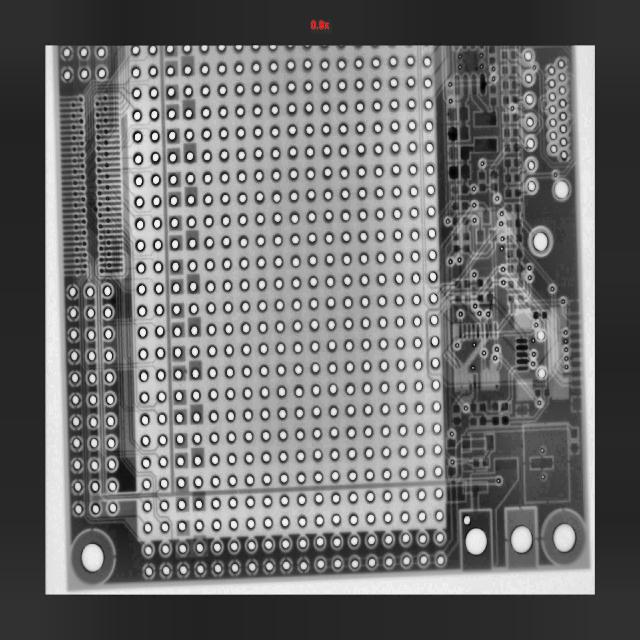Both: (78, 541, 107, 574), (464, 527, 489, 557), (552, 523, 575, 552), (549, 178, 573, 202), (511, 526, 532, 553), (532, 231, 549, 251), (137, 370, 151, 384), (223, 323, 236, 336), (89, 503, 102, 516), (106, 458, 118, 472), (304, 168, 317, 180), (428, 314, 441, 326), (134, 219, 147, 231), (204, 259, 216, 272), (292, 363, 304, 376), (210, 497, 222, 510), (105, 437, 117, 450), (95, 47, 107, 59), (355, 143, 367, 155), (326, 319, 338, 331), (344, 384, 356, 396), (294, 429, 306, 441), (169, 239, 181, 251), (242, 409, 254, 421), (263, 539, 275, 551), (68, 329, 80, 341), (85, 329, 97, 341), (184, 129, 195, 142), (58, 96, 85, 101), (354, 79, 365, 91), (149, 109, 160, 121), (390, 164, 402, 175), (396, 359, 407, 371), (415, 446, 426, 458), (195, 563, 206, 575), (535, 330, 547, 341), (224, 344, 234, 357), (58, 102, 84, 107), (96, 68, 107, 79), (251, 62, 262, 73), (148, 88, 159, 99), (371, 79, 382, 90), (274, 300, 285, 311), (171, 304, 182, 315), (160, 565, 171, 576), (339, 145, 349, 157), (349, 514, 359, 526), (136, 240, 146, 252), (156, 369, 166, 381), (60, 113, 84, 118), (60, 119, 84, 124), (62, 208, 86, 213), (96, 106, 119, 111), (252, 83, 262, 94), (202, 129, 212, 140), (359, 274, 369, 285), (311, 385, 321, 396), (316, 559, 326, 570), (351, 559, 361, 570), (189, 303, 199, 314), (241, 323, 251, 334), (190, 390, 201, 400), (103, 329, 113, 340), (523, 51, 533, 62), (152, 174, 161, 186), (340, 167, 349, 179), (426, 184, 435, 196), (381, 403, 390, 415), (417, 489, 426, 501), (155, 304, 164, 316), (139, 348, 148, 360), (226, 388, 235, 400), (337, 80, 347, 90), (186, 195, 196, 205), (289, 192, 299, 202), (243, 432, 253, 442), (192, 433, 202, 443), (72, 460, 82, 470), (59, 108, 84, 112), (60, 147, 85, 151), (96, 140, 121, 144), (305, 146, 314, 157), (79, 46, 88, 57), (287, 82, 296, 93), (321, 80, 330, 91), (339, 123, 348, 134), (374, 144, 383, 155), (186, 173, 195, 184), (272, 170, 281, 181), (374, 166, 383, 177), (426, 164, 435, 175), (324, 210, 333, 221), (342, 254, 351, 265), (344, 319, 353, 330), (363, 383, 372, 394), (399, 447, 408, 458), (417, 468, 426, 479), (366, 492, 375, 503), (298, 517, 307, 528), (418, 511, 427, 522), (291, 257, 300, 268), (171, 261, 180, 272), (206, 282, 215, 293), (190, 346, 199, 357), (156, 348, 165, 359), (209, 389, 218, 400), (140, 392, 149, 403), (142, 479, 151, 490), (194, 499, 203, 510), (143, 522, 152, 533), (212, 520, 221, 531), (195, 543, 204, 554), (71, 394, 80, 405), (91, 481, 100, 492), (205, 237, 213, 249), (60, 125, 84, 129), (60, 154, 84, 158), (61, 175, 85, 179), (96, 135, 120, 139), (97, 157, 121, 161), (99, 246, 123, 250), (99, 252, 123, 256), (61, 159, 84, 163), (61, 181, 84, 185), (96, 112, 119, 116), (97, 163, 120, 167), (100, 257, 123, 261), (527, 137, 534, 150), (62, 70, 71, 80), (286, 61, 295, 71), (235, 63, 244, 73), (270, 105, 279, 115), (150, 132, 159, 142), (408, 121, 417, 131), (425, 143, 434, 153), (391, 143, 400, 153), (254, 149, 263, 159), (341, 189, 350, 199), (341, 212, 350, 222), (393, 231, 402, 241), (376, 231, 385, 241), (411, 252, 420, 262), (394, 252, 403, 262), (326, 277, 335, 287), (328, 341, 337, 351), (362, 340, 371, 350), (379, 339, 388, 349), (433, 445, 442, 455), (382, 470, 391, 480), (400, 469, 409, 479), (400, 491, 409, 501), (315, 494, 324, 504), (332, 515, 341, 525), (384, 513, 393, 523), (435, 533, 444, 543), (401, 533, 410, 543), (384, 535, 393, 545), (333, 559, 342, 569), (436, 556, 445, 566), (169, 196, 178, 206), (172, 283, 181, 293), (154, 263, 163, 273), (224, 302, 233, 312), (206, 303, 215, 313), (276, 343, 285, 353), (176, 434, 185, 444), (142, 459, 151, 469), (159, 457, 168, 467), (176, 457, 185, 467), (279, 452, 288, 462), (211, 477, 220, 487), (161, 523, 170, 533), (229, 520, 238, 530), (264, 518, 273, 528), (281, 540, 290, 550), (230, 562, 239, 572), (144, 566, 153, 576), (70, 351, 79, 361), (89, 438, 98, 448), (108, 481, 117, 491), (73, 482, 82, 492), (74, 504, 83, 514), (559, 99, 568, 109), (185, 108, 193, 119), (221, 172, 229, 183), (410, 186, 418, 197), (428, 228, 436, 239), (411, 230, 419, 241), (311, 363, 319, 374), (364, 404, 372, 415), (347, 405, 355, 416), (313, 406, 321, 417), (297, 451, 305, 462), (401, 512, 409, 523), (420, 555, 428, 566), (240, 237, 248, 248), (240, 258, 248, 269), (155, 283, 163, 294), (190, 325, 198, 336), (277, 365, 285, 376), (141, 414, 149, 425), (144, 545, 152, 556), (91, 460, 99, 471), (96, 96, 118, 100), (79, 70, 88, 79), (132, 46, 141, 55), (337, 60, 346, 69), (133, 89, 142, 98), (407, 78, 416, 87), (424, 101, 433, 110), (203, 152, 212, 161), (342, 233, 351, 242), (428, 250, 437, 259), (412, 295, 421, 304), (330, 428, 339, 437), (187, 218, 196, 227), (153, 219, 162, 228), (244, 454, 253, 463), (194, 478, 203, 487), (213, 543, 222, 552), (424, 57, 432, 67), (270, 62, 278, 72), (202, 86, 210, 96), (270, 84, 278, 94), (356, 102, 364, 112), (305, 103, 313, 113), (219, 107, 227, 117), (271, 127, 279, 137), (322, 124, 330, 134), (272, 149, 280, 159), (186, 152, 194, 162), (151, 153, 159, 163), (238, 172, 246, 182), (255, 171, 263, 181), (358, 167, 366, 177), (393, 186, 401, 196), (324, 191, 332, 201), (376, 210, 384, 220), (360, 232, 368, 242), (377, 253, 385, 263), (360, 254, 368, 264), (326, 255, 334, 265), (308, 212, 316, 222), (378, 274, 386, 284), (310, 299, 318, 309), (311, 342, 319, 352), (414, 338, 422, 348), (431, 336, 439, 346), (431, 358, 439, 368), (380, 361, 388, 371), (363, 361, 371, 371), (433, 402, 441, 412), (330, 407, 338, 417), (296, 408, 304, 418), (364, 427, 372, 437), (399, 426, 407, 436), (435, 489, 443, 499), (314, 472, 322, 482), (350, 492, 358, 502), (298, 495, 306, 505), (314, 450, 322, 460), (316, 516, 324, 526), (419, 534, 427, 544), (350, 536, 358, 546), (333, 537, 341, 547), (316, 537, 324, 547), (299, 538, 307, 548), (300, 561, 308, 571), (135, 197, 143, 207), (239, 194, 247, 204), (256, 192, 264, 202), (273, 213, 281, 223), (256, 214, 264, 224), (239, 215, 247, 225), (170, 218, 178, 228), (154, 240, 162, 250), (257, 236, 265, 246), (274, 236, 282, 246), (291, 235, 299, 245), (274, 257, 282, 267), (138, 284, 146, 294), (241, 280, 249, 290), (242, 302, 250, 312), (260, 344, 268, 354), (174, 348, 182, 358), (226, 368, 234, 378), (260, 366, 268, 376), (295, 387, 303, 397), (278, 387, 286, 397), (261, 388, 269, 398), (244, 388, 252, 398), (210, 412, 218, 422), (261, 409, 269, 419), (279, 409, 287, 419), (262, 431, 270, 441), (159, 435, 167, 445), (141, 436, 149, 446), (211, 455, 219, 465), (262, 453, 270, 463), (263, 474, 271, 484), (229, 498, 237, 508), (178, 500, 186, 510), (160, 501, 168, 511), (195, 521, 203, 531), (247, 519, 255, 529), (281, 517, 289, 527), (162, 544, 170, 554), (179, 544, 187, 554), (105, 351, 113, 361), (105, 372, 113, 382), (106, 395, 114, 405), (72, 417, 80, 427), (107, 417, 115, 427), (525, 94, 533, 104), (558, 72, 566, 82), (557, 59, 565, 69), (409, 142, 416, 153), (308, 190, 315, 201), (413, 273, 420, 284), (416, 403, 423, 414), (291, 213, 298, 224), (281, 495, 288, 506), (104, 286, 111, 297), (538, 368, 545, 379), (59, 131, 84, 134), (59, 142, 84, 145), (60, 165, 85, 168), (99, 269, 124, 272), (149, 45, 157, 54), (355, 59, 363, 68), (184, 66, 192, 75), (424, 79, 432, 88), (390, 100, 398, 109), (322, 103, 330, 112), (202, 108, 210, 117), (220, 129, 228, 138), (391, 122, 399, 131), (425, 122, 433, 131), (169, 153, 177, 162), (290, 170, 298, 179), (395, 274, 403, 283), (430, 294, 438, 303), (327, 298, 335, 307), (398, 383, 406, 392), (415, 382, 423, 391), (365, 449, 373, 458), (348, 449, 356, 458), (332, 494, 340, 503), (367, 514, 375, 523), (368, 536, 376, 545), (205, 217, 213, 226), (293, 301, 301, 310), (294, 343, 302, 352), (192, 413, 200, 422), (227, 412, 235, 421), (279, 431, 287, 440), (210, 433, 218, 442), (228, 455, 236, 464), (230, 542, 238, 551), (282, 561, 290, 570), (213, 563, 221, 572), (71, 374, 79, 383), (109, 503, 117, 512), (60, 137, 84, 140), (61, 170, 85, 173), (61, 187, 85, 190), (62, 198, 86, 201), (62, 215, 86, 218), (62, 220, 86, 223), (63, 271, 87, 274), (95, 102, 119, 105), (96, 125, 120, 128), (95, 130, 119, 133), (97, 168, 121, 171), (98, 180, 122, 183), (98, 202, 122, 205), (98, 207, 122, 210), (98, 213, 122, 216), (98, 224, 122, 227), (99, 241, 123, 244), (99, 264, 123, 267), (390, 57, 397, 67), (185, 87, 192, 97), (219, 86, 226, 96), (254, 106, 261, 116), (324, 146, 331, 156), (238, 150, 245, 160), (135, 154, 142, 164), (324, 167, 331, 177), (376, 188, 383, 198), (359, 189, 366, 199), (411, 208, 418, 218), (326, 233, 333, 243), (309, 255, 316, 265), (344, 276, 351, 286), (396, 295, 403, 305), (414, 317, 421, 327), (380, 318, 387, 328), (311, 320, 318, 330), (346, 341, 353, 351), (397, 339, 404, 349), (330, 384, 337, 394), (381, 383, 388, 393), (314, 429, 321, 439), (348, 428, 355, 438), (416, 425, 423, 435), (332, 471, 339, 481), (403, 556, 410, 566), (153, 196, 160, 206), (258, 258, 265, 268), (224, 259, 231, 269), (189, 261, 196, 271), (138, 263, 145, 273), (258, 279, 265, 289), (293, 278, 300, 288), (139, 306, 146, 316), (209, 368, 216, 378), (159, 414, 166, 424), (229, 476, 236, 486), (264, 497, 271, 507), (247, 497, 254, 507), (144, 502, 151, 512), (248, 540, 255, 550), (69, 287, 76, 297), (89, 374, 96, 384), (63, 226, 86, 229), (63, 231, 86, 234), (63, 237, 86, 240), (64, 259, 87, 262), (64, 265, 87, 268), (96, 119, 119, 122), (97, 146, 120, 149), (97, 152, 120, 155), (98, 191, 121, 194), (99, 219, 122, 222), (383, 425, 389, 436), (529, 181, 535, 192), (100, 230, 122, 233), (166, 46, 174, 54), (304, 60, 312, 68), (304, 83, 312, 91), (366, 472, 374, 480), (208, 326, 216, 334), (63, 48, 70, 57), (407, 57, 414, 66), (202, 65, 209, 74), (236, 85, 243, 94), (390, 79, 397, 88), (237, 107, 244, 116), (134, 132, 141, 141), (238, 129, 245, 138), (289, 126, 296, 135), (357, 124, 364, 133), (289, 147, 296, 156), (135, 177, 142, 186), (170, 175, 177, 184), (204, 174, 211, 183), (394, 210, 401, 219), (309, 234, 316, 243), (310, 277, 317, 286), (379, 297, 386, 306), (362, 297, 369, 306), (344, 298, 351, 307), (346, 363, 353, 372), (399, 404, 406, 413), (434, 424, 441, 433), (435, 467, 442, 476), (383, 447, 390, 456), (298, 474, 305, 483), (349, 472, 356, 481), (384, 492, 391, 501), (436, 511, 443, 520), (369, 558, 376, 567), (386, 558, 393, 567), (205, 194, 212, 203), (222, 194, 229, 203), (189, 239, 196, 248), (190, 282, 197, 291), (224, 282, 231, 291), (259, 302, 266, 311), (140, 329, 147, 338), (157, 327, 164, 336), (174, 327, 181, 336), (294, 322, 301, 331), (209, 347, 216, 356), (192, 369, 199, 378), (244, 367, 251, 376), (175, 391, 182, 400), (158, 392, 165, 401), (176, 414, 183, 423), (228, 433, 235, 442), (194, 456, 201, 465), (161, 479, 168, 488), (179, 522, 186, 531), (266, 562, 273, 571), (87, 308, 94, 317), (90, 418, 97, 427), (73, 439, 80, 448), (528, 161, 535, 170), (559, 86, 566, 95), (307, 125, 313, 135), (375, 123, 381, 133), (222, 150, 228, 160), (363, 318, 369, 328), (433, 380, 439, 390), (332, 450, 338, 460), (464, 516, 470, 526), (223, 216, 229, 226), (276, 279, 282, 289), (244, 345, 250, 355), (175, 370, 181, 380), (247, 475, 253, 485), (373, 59, 380, 67), (219, 65, 226, 73), (374, 102, 381, 110), (339, 104, 346, 112), (289, 105, 296, 113), (134, 113, 141, 121), (178, 479, 185, 487), (180, 565, 187, 573), (89, 352, 96, 360), (549, 119, 556, 127), (322, 60, 328, 69), (409, 99, 415, 108), (169, 110, 175, 119), (255, 127, 261, 136), (360, 211, 366, 220), (429, 207, 435, 216), (430, 272, 436, 281), (330, 364, 336, 373), (274, 193, 280, 202), (260, 323, 266, 332), (277, 322, 283, 331), (281, 474, 287, 483), (249, 562, 255, 571), (87, 288, 93, 297), (90, 395, 96, 404), (527, 118, 533, 127), (549, 79, 555, 88), (550, 105, 556, 114), (560, 124, 566, 133), (550, 132, 556, 141), (561, 151, 567, 160), (411, 165, 416, 175), (416, 360, 421, 370), (224, 237, 229, 247), (184, 46, 191, 53), (200, 46, 208, 52), (269, 45, 277, 51), (133, 68, 139, 76), (397, 318, 403, 326), (70, 308, 76, 316), (549, 67, 555, 75), (551, 145, 557, 153), (61, 204, 85, 206), (63, 249, 87, 251), (63, 254, 87, 256), (98, 197, 122, 199), (99, 236, 123, 238), (98, 175, 121, 177), (98, 186, 121, 188), (168, 67, 173, 76), (526, 74, 531, 83), (62, 193, 84, 195), (64, 243, 86, 245), (218, 46, 225, 52), (550, 93, 556, 100), (471, 217, 478, 223), (72, 168, 78, 175), (286, 45, 294, 50), (151, 68, 156, 76), (170, 132, 175, 140), (106, 308, 111, 316), (561, 113, 566, 121), (561, 138, 566, 146), (78, 118, 84, 124), (82, 252, 88, 258), (74, 258, 80, 264), (74, 269, 80, 275), (169, 89, 174, 96), (303, 45, 311, 49), (236, 45, 242, 50), (253, 45, 259, 50), (499, 236, 504, 242), (501, 266, 506, 272), (501, 280, 506, 286), (564, 338, 569, 344), (537, 400, 542, 406), (70, 102, 76, 107), (79, 129, 84, 135), (80, 163, 85, 169), (80, 174, 86, 179), (73, 180, 78, 186), (103, 95, 108, 101), (94, 100, 99, 106), (96, 145, 101, 151), (321, 45, 328, 49), (496, 478, 501, 483), (448, 259, 453, 264), (472, 203, 477, 208), (472, 187, 477, 192), (499, 212, 504, 217), (563, 330, 568, 335), (564, 347, 569, 352), (455, 343, 460, 348), (79, 97, 84, 102), (79, 108, 84, 113), (71, 113, 76, 118), (71, 125, 76, 130), (71, 135, 76, 140), (72, 158, 77, 163), (73, 191, 78, 196), (81, 197, 86, 202), (73, 203, 78, 208), (81, 208, 86, 213), (74, 225, 79, 230), (74, 236, 79, 241), (82, 241, 87, 246), (83, 263, 88, 268), (103, 106, 108, 111), (105, 174, 110, 179), (105, 185, 110, 190), (105, 196, 110, 201), (106, 229, 111, 234), (98, 235, 103, 240), (99, 268, 104, 273), (532, 65, 536, 70), (457, 257, 461, 262), (446, 218, 450, 223), (457, 55, 462, 59), (472, 272, 476, 277), (527, 266, 532, 270), (565, 355, 569, 360), (534, 322, 538, 327), (80, 141, 84, 146), (72, 147, 77, 151), (80, 152, 84, 157), (82, 219, 86, 224), (75, 247, 79, 252), (96, 124, 100, 129), (97, 179, 101, 184), (106, 207, 110, 212), (106, 218, 110, 223), (98, 224, 103, 228), (107, 240, 111, 245), (99, 246, 103, 251), (500, 221, 503, 227), (451, 460, 455, 464), (450, 432, 454, 436), (449, 99, 453, 103), (495, 197, 499, 201), (458, 66, 462, 70), (479, 54, 483, 58), (551, 287, 555, 291), (532, 352, 536, 356), (531, 362, 535, 366), (493, 356, 497, 360), (482, 351, 486, 355), (473, 304, 477, 308), (478, 311, 482, 315), (486, 312, 490, 316), (459, 312, 463, 316), (500, 246, 504, 250), (81, 186, 85, 190), (74, 214, 78, 218), (93, 207, 97, 211), (96, 113, 100, 117), (104, 118, 108, 122), (104, 129, 108, 133), (96, 135, 100, 139), (104, 152, 108, 156), (105, 163, 109, 167), (97, 191, 101, 195), (98, 202, 102, 206), (107, 252, 111, 256), (107, 263, 111, 267), (481, 161, 484, 166), (492, 76, 495, 81), (98, 167, 101, 172), (565, 365, 568, 369), (473, 343, 476, 347), (471, 366, 474, 370), (83, 230, 86, 234), (105, 140, 108, 144), (97, 158, 101, 161), (99, 213, 102, 217), (100, 258, 103, 262), (541, 475, 544, 478), (554, 174, 557, 177), (480, 65, 483, 68), (492, 68, 495, 71), (532, 339, 535, 342), (495, 348, 498, 351), (465, 406, 467, 410), (541, 449, 543, 452), (528, 276, 531, 278), (562, 300, 564, 303)
L1: (84, 271, 178, 553), (53, 264, 146, 512), (54, 258, 146, 503), (83, 261, 163, 531), (486, 213, 577, 391), (397, 246, 502, 382), (99, 246, 161, 464), (101, 241, 162, 455), (107, 235, 160, 420), (108, 228, 161, 410), (64, 41, 134, 146), (56, 81, 138, 162), (62, 59, 134, 151), (59, 73, 134, 157), (505, 46, 536, 238), (435, 219, 501, 301), (530, 503, 598, 572), (523, 423, 570, 504), (415, 44, 467, 103), (432, 278, 505, 318), (539, 290, 572, 378), (557, 75, 583, 177), (440, 439, 461, 558), (444, 448, 465, 561), (505, 507, 537, 571), (461, 510, 492, 572), (453, 44, 461, 258), (457, 324, 537, 345), (423, 44, 455, 81), (532, 67, 551, 113), (462, 481, 487, 493), (463, 458, 487, 470), (461, 440, 486, 449), (559, 302, 571, 320), (568, 299, 581, 313), (428, 44, 440, 59), (516, 405, 529, 417), (572, 397, 583, 411), (509, 301, 517, 315), (81, 55, 88, 70), (570, 361, 583, 368), (500, 402, 510, 411), (570, 314, 582, 321), (570, 333, 582, 340), (519, 302, 529, 310), (569, 324, 582, 330), (570, 352, 583, 358), (572, 380, 584, 386), (570, 343, 583, 348), (571, 371, 583, 376), (471, 493, 474, 510), (477, 493, 480, 510), (448, 82, 452, 87), (511, 107, 514, 111)
L2: (25, 273, 146, 561), (34, 265, 146, 537), (44, 258, 162, 516), (68, 252, 163, 503), (445, 446, 525, 578), (418, 293, 497, 376), (504, 86, 551, 138), (496, 354, 539, 404), (440, 284, 457, 374), (494, 361, 525, 408), (465, 422, 579, 433), (457, 134, 500, 161), (505, 168, 555, 191), (455, 204, 488, 235), (507, 397, 549, 421), (119, 45, 133, 116), (490, 301, 518, 333), (438, 45, 451, 102), (467, 428, 571, 435), (445, 387, 463, 423), (551, 329, 563, 378), (119, 46, 127, 110), (505, 56, 534, 73), (551, 303, 568, 329), (470, 92, 489, 115), (514, 305, 532, 329), (468, 242, 495, 258), (515, 379, 534, 401), (445, 481, 465, 501), (452, 387, 473, 406), (509, 408, 541, 420), (452, 93, 472, 112), (551, 378, 568, 400), (463, 50, 479, 73), (118, 46, 124, 105), (495, 459, 517, 474), (530, 457, 553, 470), (508, 369, 516, 405), (474, 113, 496, 125), (523, 278, 534, 301), (445, 479, 495, 484), (118, 45, 122, 99), (532, 310, 550, 321), (485, 359, 499, 373), (516, 71, 528, 85), (517, 135, 529, 147), (497, 349, 503, 373), (449, 166, 459, 180), (547, 320, 549, 389), (462, 433, 470, 450), (474, 202, 489, 211), (486, 435, 494, 450), (472, 388, 479, 405), (461, 166, 470, 179), (449, 147, 458, 160), (448, 128, 457, 141), (463, 74, 468, 96), (455, 74, 460, 96), (459, 108, 468, 120), (460, 128, 469, 140), (448, 108, 457, 120), (481, 371, 486, 391), (453, 460, 473, 465), (482, 211, 490, 223), (489, 230, 497, 242), (495, 372, 500, 391), (469, 372, 474, 391), (455, 372, 460, 391), (472, 411, 485, 418), (484, 410, 502, 415), (481, 73, 485, 94), (472, 74, 476, 95), (477, 230, 484, 242), (571, 443, 580, 452), (447, 466, 456, 475), (447, 438, 456, 447), (491, 371, 495, 391), (486, 371, 490, 391), (475, 371, 479, 391), (461, 371, 465, 390), (472, 486, 478, 498), (452, 417, 461, 425), (453, 324, 459, 336), (515, 345, 529, 350), (458, 325, 463, 339), (515, 53, 525, 60), (465, 373, 469, 390), (449, 250, 455, 261), (461, 186, 469, 194), (504, 104, 512, 112), (482, 457, 489, 466), (473, 458, 480, 467), (501, 402, 508, 411), (485, 449, 492, 458), (571, 428, 577, 438), (489, 45, 496, 53), (506, 235, 513, 243), (516, 250, 523, 258), (514, 339, 528, 343), (516, 360, 530, 364), (489, 323, 493, 337), (452, 186, 459, 194), (485, 405, 493, 412), (490, 85, 496, 94), (516, 366, 529, 370), (520, 190, 530, 195), (479, 315, 484, 325), (470, 418, 477, 425), (492, 403, 499, 410), (470, 404, 477, 411), (479, 184, 486, 191), (453, 405, 459, 413), (502, 66, 508, 74), (512, 66, 518, 74), (503, 97, 509, 105), (512, 96, 518, 104), (512, 128, 518, 136), (505, 144, 511, 152), (505, 159, 511, 167), (507, 250, 513, 258), (517, 265, 523, 273), (507, 265, 513, 273), (517, 280, 523, 288), (516, 353, 528, 357), (464, 281, 470, 289), (456, 294, 462, 302), (453, 217, 459, 225), (462, 158, 468, 166), (479, 172, 485, 180), (470, 298, 478, 304), (468, 324, 471, 339), (488, 315, 493, 324), (518, 116, 529, 120), (479, 404, 485, 411), (502, 52, 508, 59), (511, 82, 517, 89), (513, 144, 519, 151), (514, 159, 520, 166), (505, 175, 511, 182), (506, 190, 512, 197), (506, 221, 512, 228), (515, 220, 521, 227), (516, 235, 522, 242), (508, 281, 514, 288), (508, 296, 514, 303), (535, 390, 541, 397), (494, 323, 497, 337), (485, 324, 488, 338), (481, 324, 484, 338), (472, 324, 475, 338), (455, 281, 461, 288), (486, 279, 492, 286), (463, 245, 469, 252), (454, 233, 460, 240), (463, 218, 469, 225), (454, 203, 460, 210), (462, 203, 468, 210), (491, 183, 497, 190), (491, 172, 497, 179), (490, 57, 495, 65), (503, 82, 508, 90), (504, 114, 509, 122), (513, 114, 518, 122), (504, 129, 509, 137), (502, 418, 508, 424), (505, 206, 511, 212), (464, 295, 470, 301), (478, 295, 484, 301), (487, 295, 493, 301), (454, 246, 460, 252), (463, 234, 469, 240), (501, 207, 507, 213), (491, 98, 496, 105), (512, 51, 517, 58), (515, 175, 520, 182), (515, 190, 520, 197), (515, 205, 520, 212), (518, 296, 523, 303), (545, 390, 550, 397), (477, 280, 482, 287), (483, 354, 485, 371), (477, 323, 479, 339), (461, 120, 465, 128), (453, 45, 459, 50), (481, 418, 485, 425), (464, 325, 466, 339), (485, 420, 494, 423), (493, 418, 497, 424), (479, 45, 485, 49), (517, 227, 520, 235), (518, 242, 521, 250), (518, 99, 527, 101), (504, 74, 506, 82), (506, 136, 508, 144), (507, 167, 509, 175), (495, 190, 497, 198), (455, 225, 457, 233), (486, 186, 491, 189), (468, 205, 473, 208), (469, 219, 474, 222), (505, 89, 507, 96), (519, 258, 521, 265), (517, 212, 519, 219), (519, 273, 521, 280), (464, 179, 466, 186), (481, 165, 483, 172), (463, 46, 467, 49), (471, 46, 475, 49), (523, 267, 529, 269), (469, 188, 473, 191), (449, 220, 453, 223), (504, 268, 507, 271), (465, 225, 466, 234), (460, 316, 461, 325), (450, 435, 453, 438), (505, 282, 508, 284), (460, 248, 463, 250), (451, 463, 453, 466), (504, 238, 506, 240), (503, 223, 506, 224)
